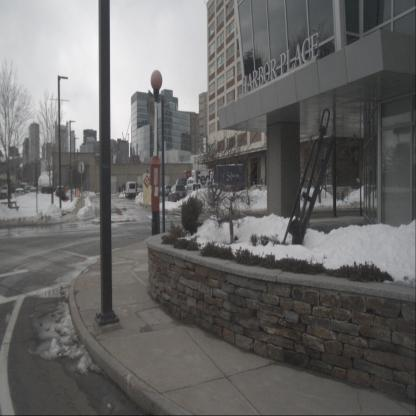cone: (77, 189, 79, 198), (78, 189, 80, 198)
